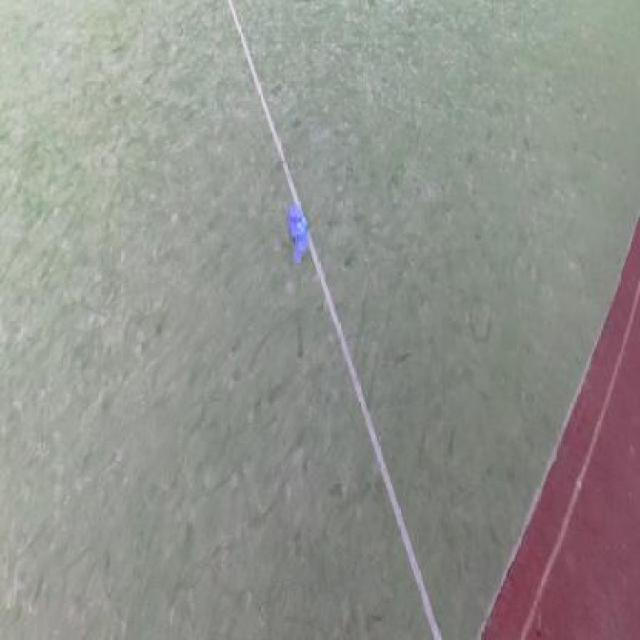Garbage: (287, 203, 308, 265)
